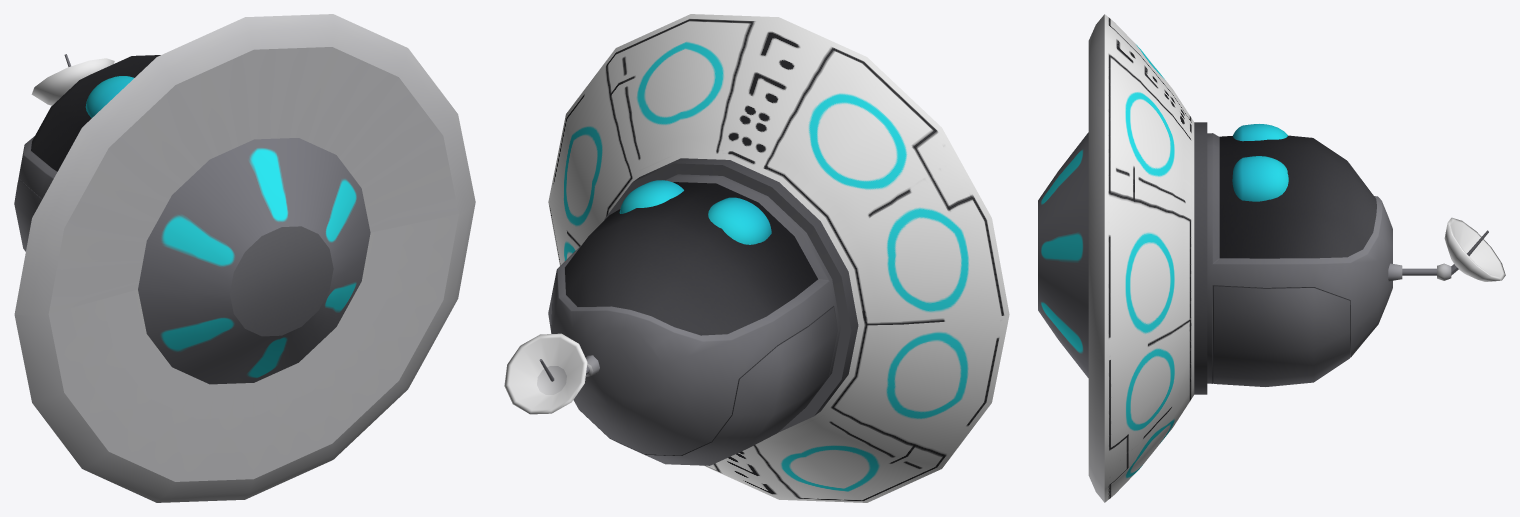
Rendered from Initial_Item_Robot_Ver1.fbx.
3 renders of one model, left to right at view 1: azimuth 30°, elevation 25°; view 2: azimuth 150°, elevation 25°; view 3: azimuth 270°, elevation 25°, orthographic. The views are drawn at different scales.
Visible parts, largest first — view 1: Body main.001, Body bottom.001, head.001, Dish.001, eyes.001; view 2: Body main.001, head.001, Dish.001, eyes.001; view 3: Body main.001, head.001, Body bottom.001, eyes.001, Dish.001, antenna Base.001.
Part boxes in pixels (x1,y1,x2,y2): Body main.001: (14, 14, 475, 502); Body bottom.001: (138, 138, 370, 384); head.001: (14, 55, 160, 251); Dish.001: (31, 58, 114, 105); eyes.001: (85, 76, 133, 117); Body main.001: (548, 14, 1009, 502); head.001: (548, 174, 840, 465); Dish.001: (504, 333, 587, 414); eyes.001: (619, 180, 771, 244); Body main.001: (1088, 14, 1207, 502); head.001: (1207, 133, 1392, 386); Body bottom.001: (1038, 132, 1088, 377); eyes.001: (1232, 124, 1288, 201); Dish.001: (1444, 217, 1505, 281); antenna Base.001: (1388, 263, 1451, 281).
Bounding box in the file's own units: 286 × 286 × 273.
Materials: 8 (8 with a texture image).
